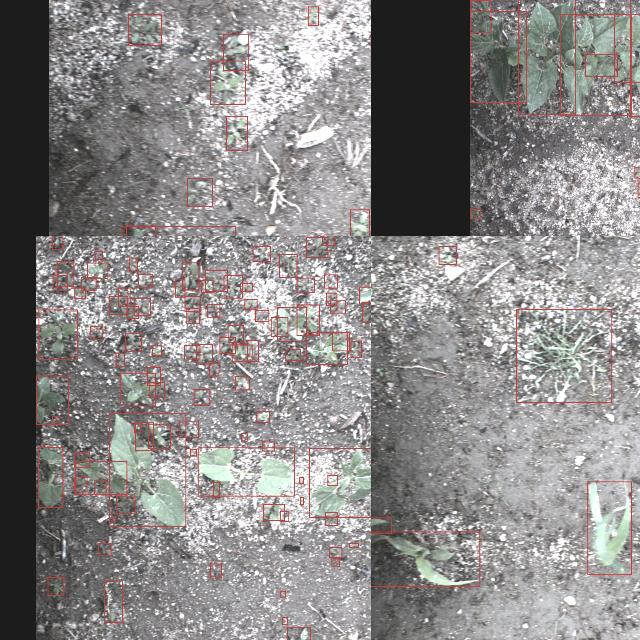crop: (109, 414, 185, 526), (560, 15, 630, 116), (517, 0, 574, 115), (371, 531, 479, 586), (470, 12, 526, 102), (198, 448, 294, 496), (309, 448, 371, 517), (588, 482, 632, 574), (76, 462, 126, 494), (38, 447, 62, 507), (371, 518, 390, 534)
weed: (516, 309, 612, 403), (38, 310, 78, 360), (613, 14, 640, 82), (210, 60, 246, 104), (36, 376, 68, 424), (306, 332, 348, 364), (120, 372, 156, 406), (128, 14, 162, 46), (278, 307, 306, 341), (224, 34, 248, 70), (104, 580, 122, 622), (226, 116, 248, 150), (296, 305, 320, 335), (585, 54, 617, 76), (188, 178, 212, 206), (470, 0, 490, 32), (148, 424, 170, 448), (350, 210, 370, 236), (135, 422, 153, 450), (205, 270, 227, 292), (183, 262, 199, 290), (306, 237, 328, 257), (224, 274, 242, 298), (56, 262, 74, 286), (279, 255, 297, 278), (232, 344, 252, 362), (332, 332, 350, 351), (270, 318, 288, 337), (116, 496, 134, 514), (109, 296, 127, 314), (438, 246, 456, 264), (287, 626, 310, 640), (264, 504, 284, 520), (125, 332, 141, 352), (196, 344, 212, 364), (125, 226, 154, 236), (47, 577, 63, 595), (180, 422, 198, 438), (252, 246, 270, 262), (134, 298, 150, 316), (147, 366, 161, 386), (87, 264, 107, 278), (194, 389, 210, 405), (148, 382, 164, 398), (228, 326, 244, 342), (184, 296, 200, 312), (52, 275, 68, 291), (220, 336, 234, 354), (74, 452, 88, 468), (184, 345, 200, 359), (234, 376, 250, 390), (298, 278, 314, 292), (80, 277, 96, 291), (118, 288, 130, 306), (248, 341, 258, 362), (187, 308, 200, 324), (359, 286, 371, 303), (138, 274, 152, 288), (324, 274, 338, 288), (74, 476, 86, 492), (330, 301, 346, 313), (308, 7, 318, 26), (326, 512, 338, 526), (210, 564, 222, 578), (94, 480, 106, 494), (255, 310, 269, 322), (208, 304, 220, 318), (285, 350, 301, 360), (351, 341, 361, 357), (175, 280, 185, 296), (363, 302, 371, 322), (90, 326, 102, 339), (51, 236, 62, 250), (98, 543, 110, 555), (256, 412, 270, 422), (209, 362, 219, 376), (128, 258, 138, 272), (327, 292, 337, 306), (330, 547, 342, 557), (245, 299, 257, 309), (202, 280, 212, 292), (128, 306, 138, 318), (74, 288, 86, 298), (322, 236, 335, 245), (262, 442, 274, 451), (328, 475, 338, 485), (152, 346, 162, 356), (116, 354, 124, 366), (240, 283, 252, 291), (213, 482, 219, 498), (470, 210, 480, 218), (280, 511, 288, 521), (634, 166, 640, 177), (332, 558, 340, 566), (134, 422, 140, 432), (95, 251, 102, 259), (637, 180, 640, 198), (190, 448, 196, 456), (52, 416, 60, 422), (349, 543, 358, 547), (282, 618, 288, 624), (280, 591, 286, 597), (242, 433, 246, 441), (300, 498, 304, 504), (300, 477, 304, 483), (111, 516, 115, 522)
